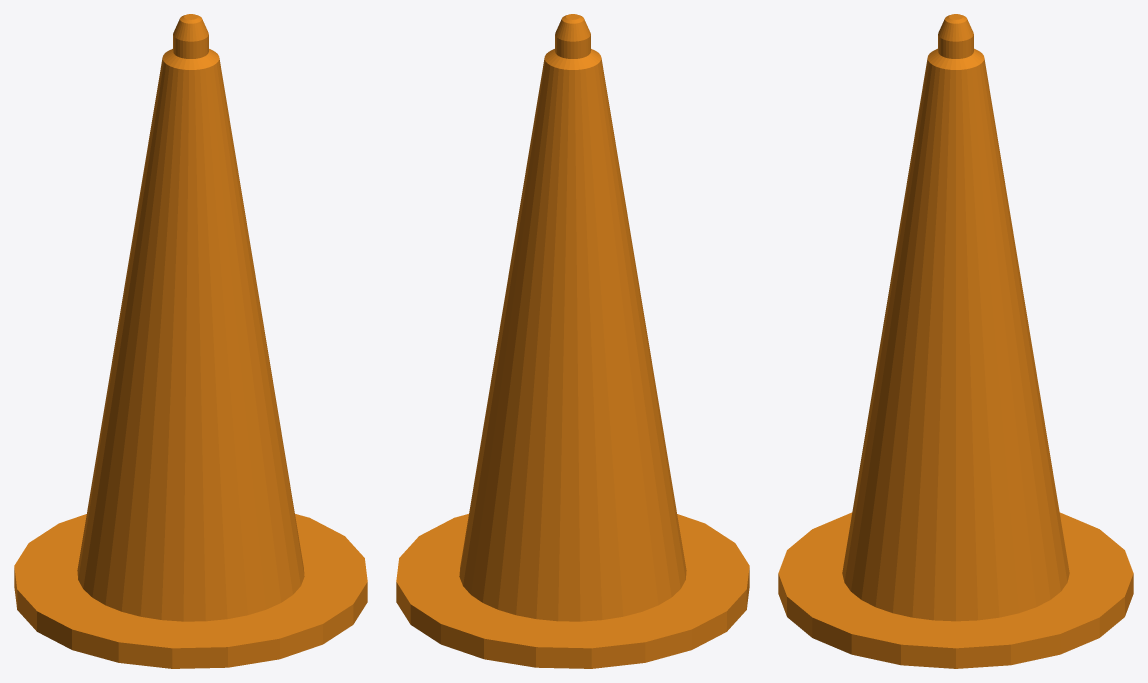
File: Parysow_Milena Sofia_48178329.fbx
The picture shows the model from 3 angles, left to right: view 1: azimuth 30°, elevation 25°; view 2: azimuth 150°, elevation 25°; view 3: azimuth 270°, elevation 25°; orthographic projection.
Parts seen in each view (by area): view 1: Cone, Cylinder; view 2: Cone, Cylinder; view 3: Cone, Cylinder.
Boxes of the visible parts, left/top/right/bottom form: Cone: left=77, top=14, right=304, bottom=621; Cylinder: left=14, top=514, right=367, bottom=668; Cone: left=459, top=14, right=686, bottom=621; Cylinder: left=396, top=514, right=749, bottom=668; Cone: left=842, top=14, right=1069, bottom=621; Cylinder: left=778, top=512, right=1133, bottom=668.
Size of the model in its own units: 312 by 559 by 312.
